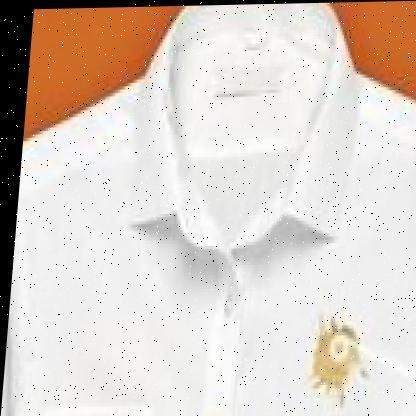coffee: (313, 326, 359, 387)
